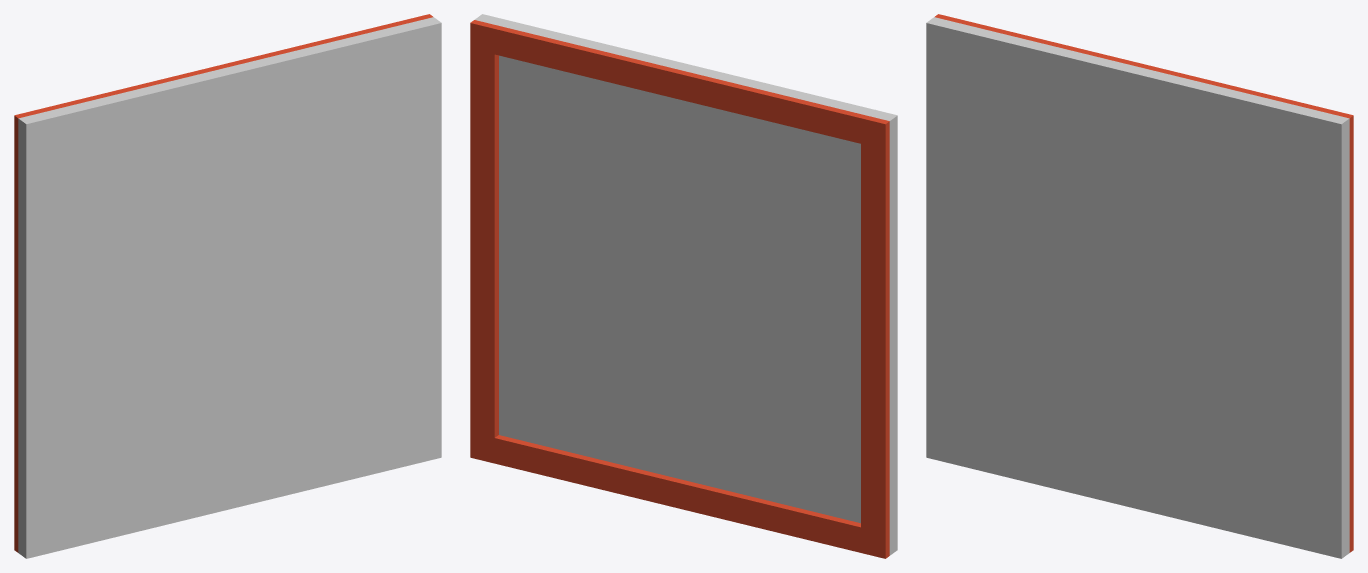
File: newBoard.fbx
3 renders of one model, left to right at view 1: azimuth 30°, elevation 25°; view 2: azimuth 150°, elevation 25°; view 3: azimuth 330°, elevation 25°, orthographic.
Parts seen in each view (by area): view 1: Cube; view 2: Cube; view 3: Cube.
Part boxes in pixels (<box>): Cube: <box>14,14,441,558</box>; Cube: <box>470,14,897,558</box>; Cube: <box>926,14,1353,558</box>.
Bounding box in the file's own units: 3000 × 3000 × 153.
